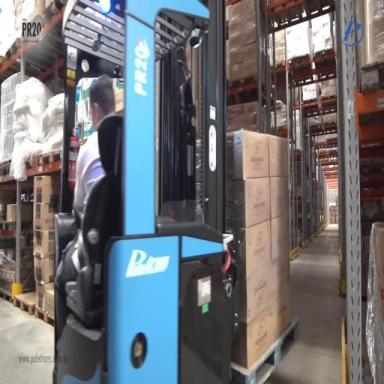forklift: (43, 0, 246, 384)
